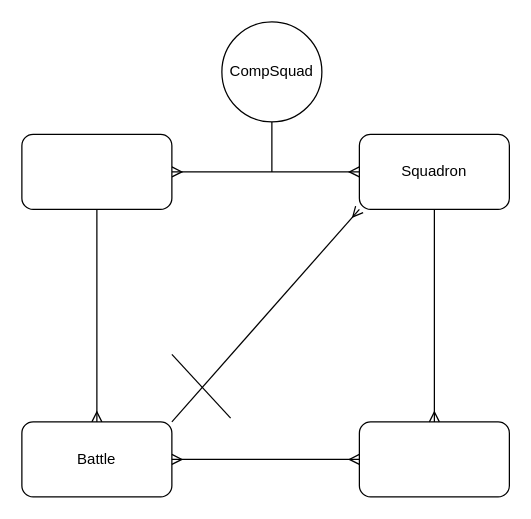
Image size: 531x519. Some labels were removed from this diagram. The shapes that lost their labels are listed below. From the top down, each one's box as (x1, y1, x2, y2) in pixels, then its label:
(21, 133, 172, 209): Competition
(358, 421, 509, 497): Person
